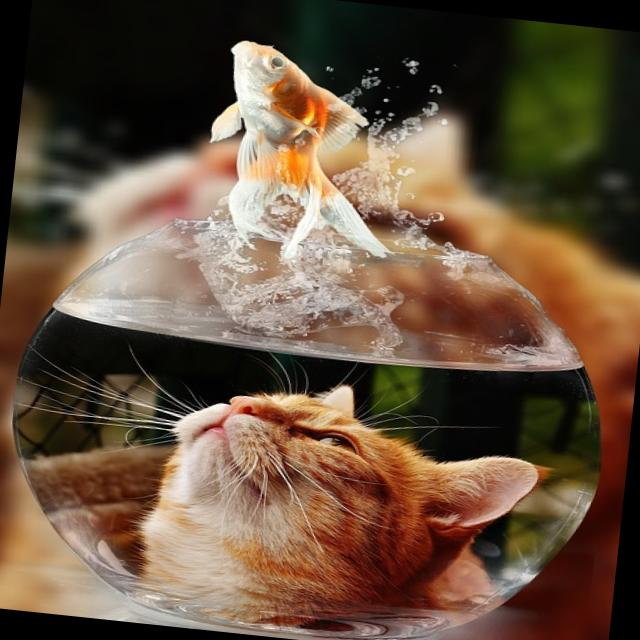animal: (130, 364, 545, 628)
